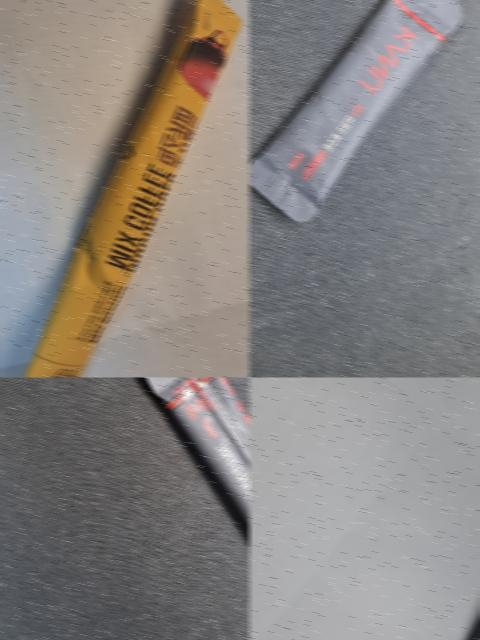KANU: (248, 0, 480, 249), (119, 377, 250, 635), (292, 519, 480, 640)
mix_coffee: (0, 0, 250, 377)
